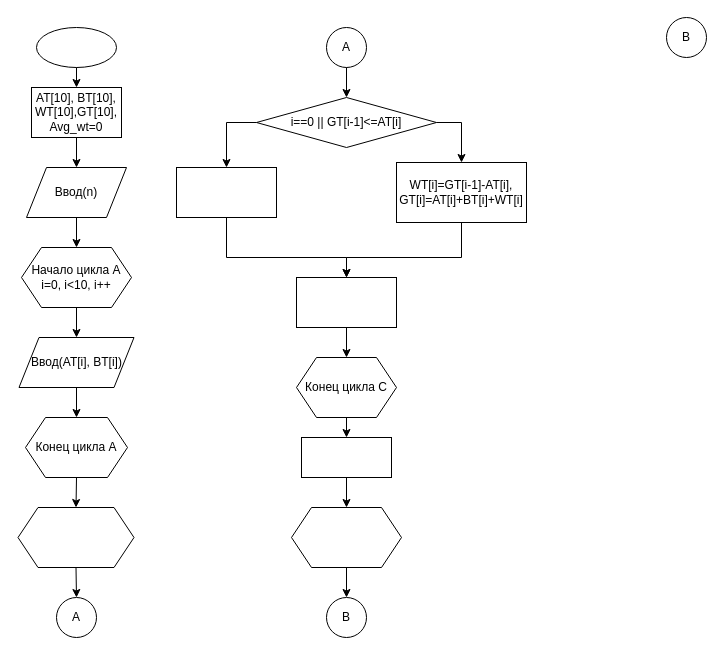
The diagram is 724 pixels wide and 655 high, and some of its shapes have lost their labels. Each missing label, with the box of its shape:
Avg_wt += WT[i]: (296, 276, 396, 328)
Avg_wt /= n: (300, 436, 392, 478)
int main(): (36, 26, 116, 68)
WT[i]=0, GT[i]=AT[i]+BT[i]: (176, 166, 276, 218)
Начало цикла E i=0, i<n, i++: (290, 506, 402, 568)
Начало цикла С i=0, i<n, i++: (17, 506, 134, 568)
